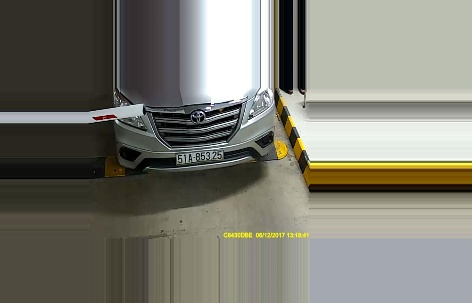plate: (173, 146, 226, 164)
